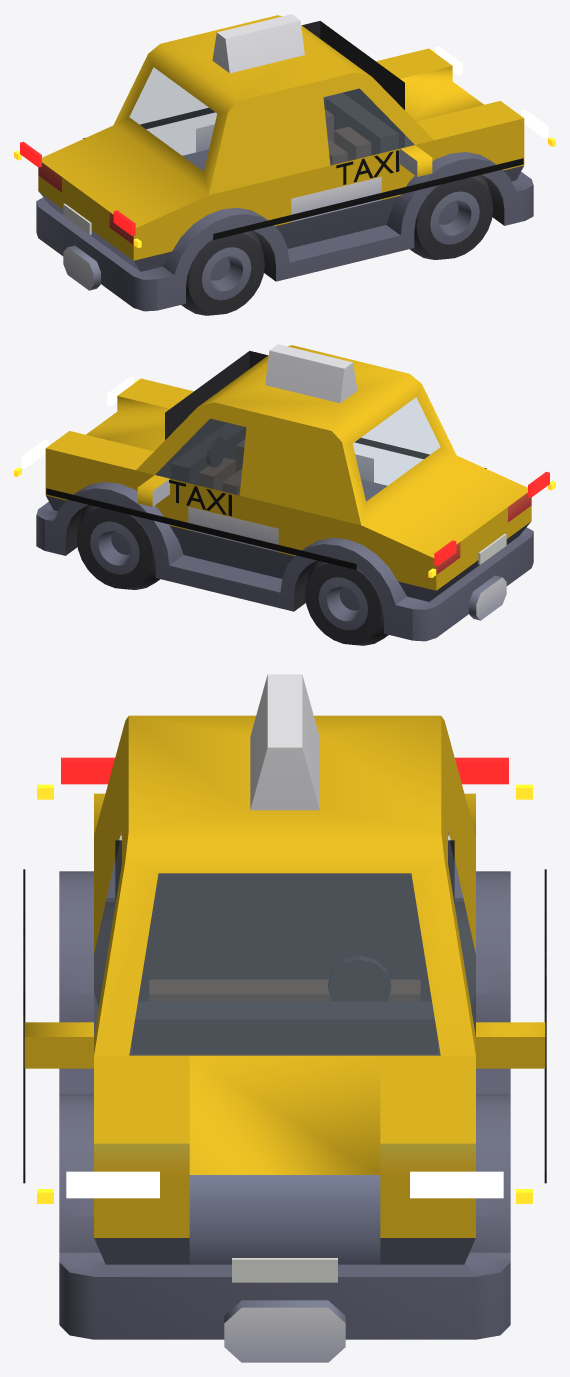
Rendered from veh_taxi.glb.
3 views of the same model, one above another, from view 1: azimuth 30°, elevation 25°; view 2: azimuth 150°, elevation 25°; view 3: azimuth 270°, elevation 25° (orthographic). The views are drawn at different scales.
Parts seen in each view (by area): view 1: body, wheel_fr, wheel_rr, interior, decal_check_-1, interior_dash, interior_seat_-1, light_head, light_tail, decal_taxi_-1, decal_check_1, plate_rear; view 2: body, wheel_fl, wheel_rl, interior, decal_check_1, interior_dash, interior_seat_1, light_head, light_tail, decal_taxi_1, interior_steer, decal_check_-1 (+1 smaller); view 3: body, interior, interior_dash, light_head, interior_bench, light_tail, plate_front, interior_steer.
Boxes of the visible parts, left/top/right/bottom form: body: left=36, top=14, right=533, bottom=311; wheel_fr: left=409, top=174, right=493, bottom=259; wheel_rr: left=181, top=230, right=264, bottom=315; interior: left=302, top=21, right=404, bottom=155; decal_check_-1: left=213, top=158, right=523, bottom=239; interior_dash: left=324, top=92, right=398, bottom=153; interior_seat_-1: left=334, top=127, right=371, bottom=160; light_head: left=435, top=46, right=548, bottom=138; light_tail: left=20, top=141, right=135, bottom=235; decal_taxi_-1: left=336, top=150, right=399, bottom=184; decal_check_1: left=83, top=108, right=214, bottom=138; plate_rear: left=63, top=203, right=91, bottom=234; body: left=36, top=344, right=533, bottom=641; wheel_fl: left=76, top=504, right=160, bottom=589; wheel_rl: left=305, top=560, right=388, bottom=645; interior: left=165, top=351, right=267, bottom=485; decal_check_1: left=46, top=488, right=356, bottom=569; interior_dash: left=171, top=422, right=246, bottom=483; interior_seat_1: left=198, top=457, right=235, bottom=490; light_head: left=21, top=376, right=134, bottom=468; light_tail: left=434, top=471, right=549, bottom=565; decal_taxi_1: left=169, top=480, right=231, bottom=516; interior_steer: left=206, top=436, right=225, bottom=467; decal_check_-1: left=355, top=438, right=486, bottom=468; body: left=24, top=674, right=545, bottom=1362; interior: left=115, top=840, right=454, bottom=1055; interior_dash: left=132, top=1001, right=437, bottom=1053; light_head: left=66, top=1171, right=503, bottom=1198; interior_bench: left=149, top=979, right=420, bottom=1055; light_tail: left=61, top=757, right=508, bottom=784; plate_front: left=232, top=1258, right=337, bottom=1282; interior_steer: left=328, top=956, right=391, bottom=1001.
Bounding box in the file's own units: 4.55 × 2.45 × 2.47.
Materials: 10 (1 with a texture image).
